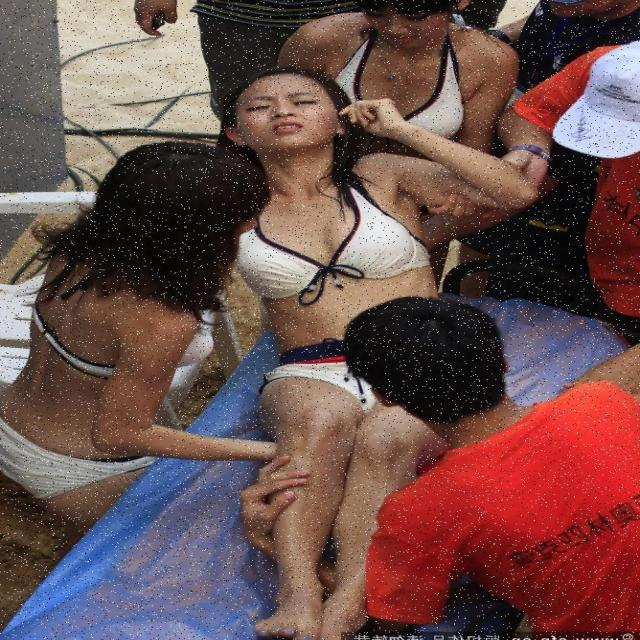fall: (226, 84, 472, 616)
